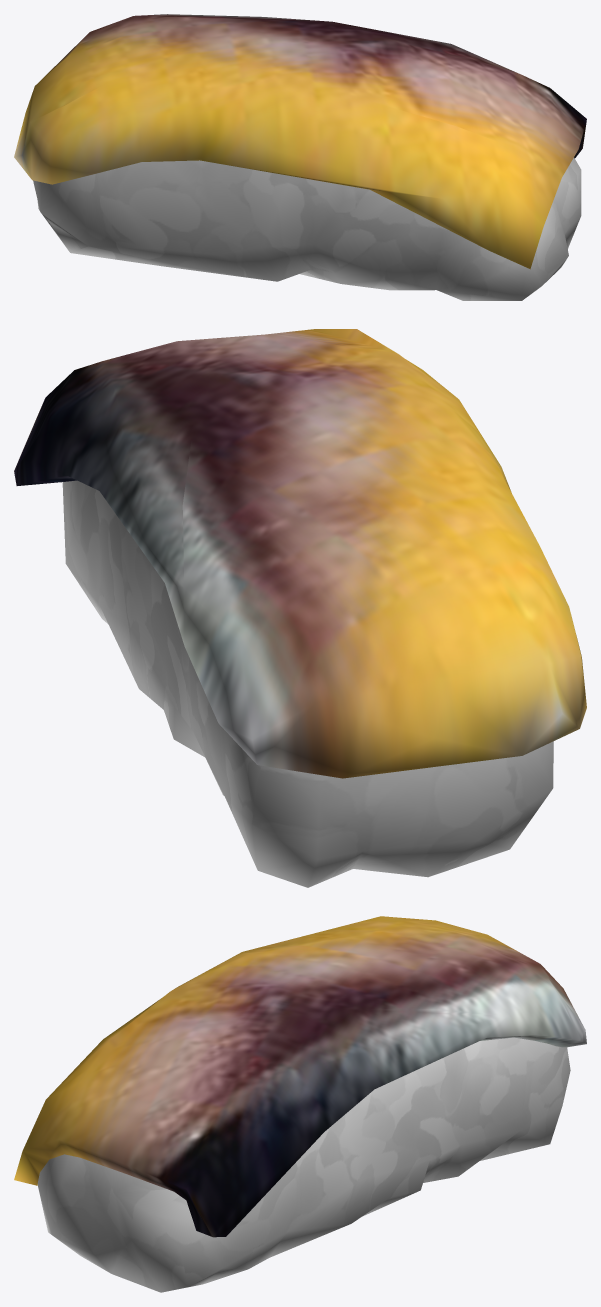
Rendered from herringsushi.fbx.
The picture shows the model from 3 angles, top to bottom: view 1: azimuth 30°, elevation 25°; view 2: azimuth 150°, elevation 25°; view 3: azimuth 270°, elevation 25°; orthographic projection. The views are drawn at different scales.
Parts seen in each view (by area): view 1: Salmon 4.005, Riceball 4.004; view 2: Salmon 4.005, Riceball 4.004; view 3: Salmon 4.005, Riceball 4.004.
Part boxes in pixels (left/top/right/bottom): Salmon 4.005: left=14, top=14, right=586, bottom=269; Riceball 4.004: left=33, top=157, right=581, bottom=300; Salmon 4.005: left=14, top=329, right=586, bottom=778; Riceball 4.004: left=62, top=480, right=553, bottom=887; Salmon 4.005: left=14, top=916, right=586, bottom=1237; Riceball 4.004: left=37, top=1037, right=570, bottom=1292.
Bounding box in the file's own units: 101 × 44.15 × 102.
Materials: 2 (2 with a texture image).
